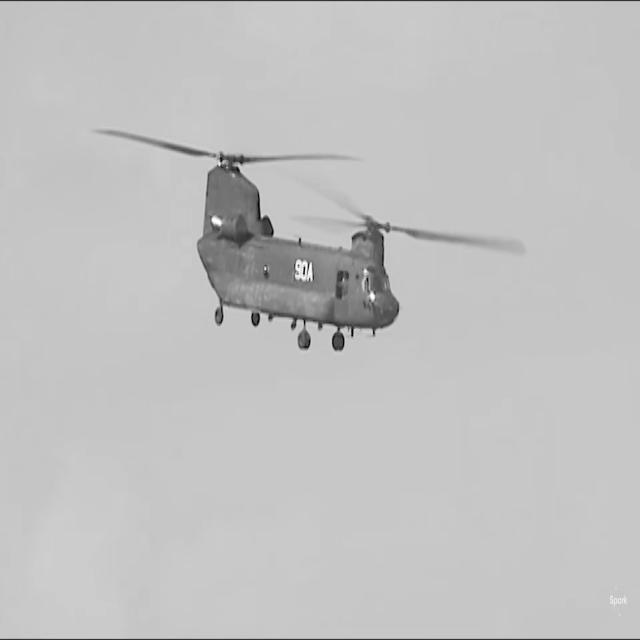Helicopter: (96, 129, 524, 351)
